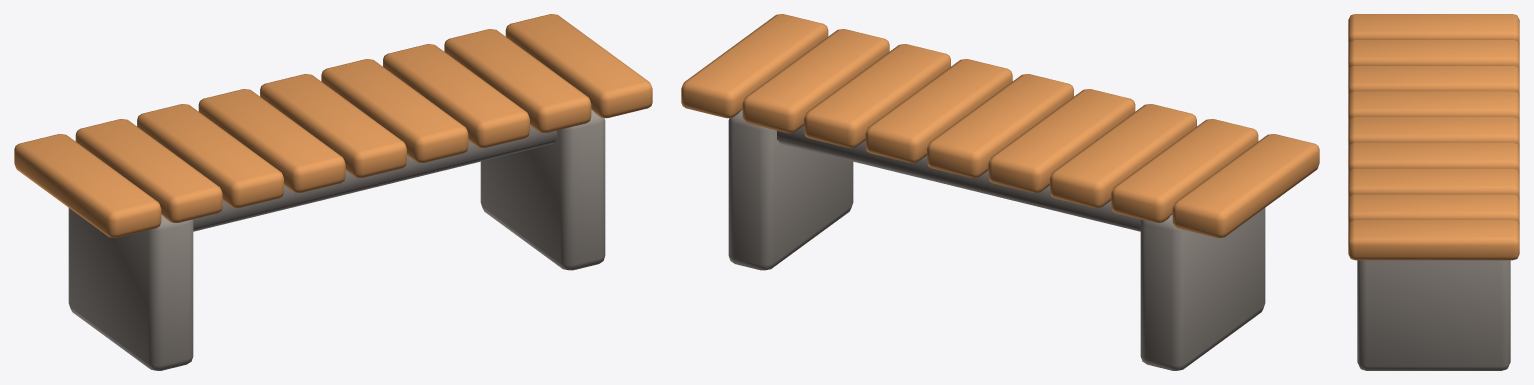
Rendered from bench-wood.glb.
The picture shows the model from 3 angles, left to right: view 1: azimuth 30°, elevation 25°; view 2: azimuth 150°, elevation 25°; view 3: azimuth 270°, elevation 25°; orthographic projection. The views are drawn at different scales.
Visible parts, largest first — view 1: body; view 2: body; view 3: body.
Part boxes in pixels (<box>): body: <box>14,14,652,370</box>; body: <box>681,14,1319,370</box>; body: <box>1348,14,1519,370</box>.
Size of the model in its own units: 1.48 by 0.46 by 0.47.
